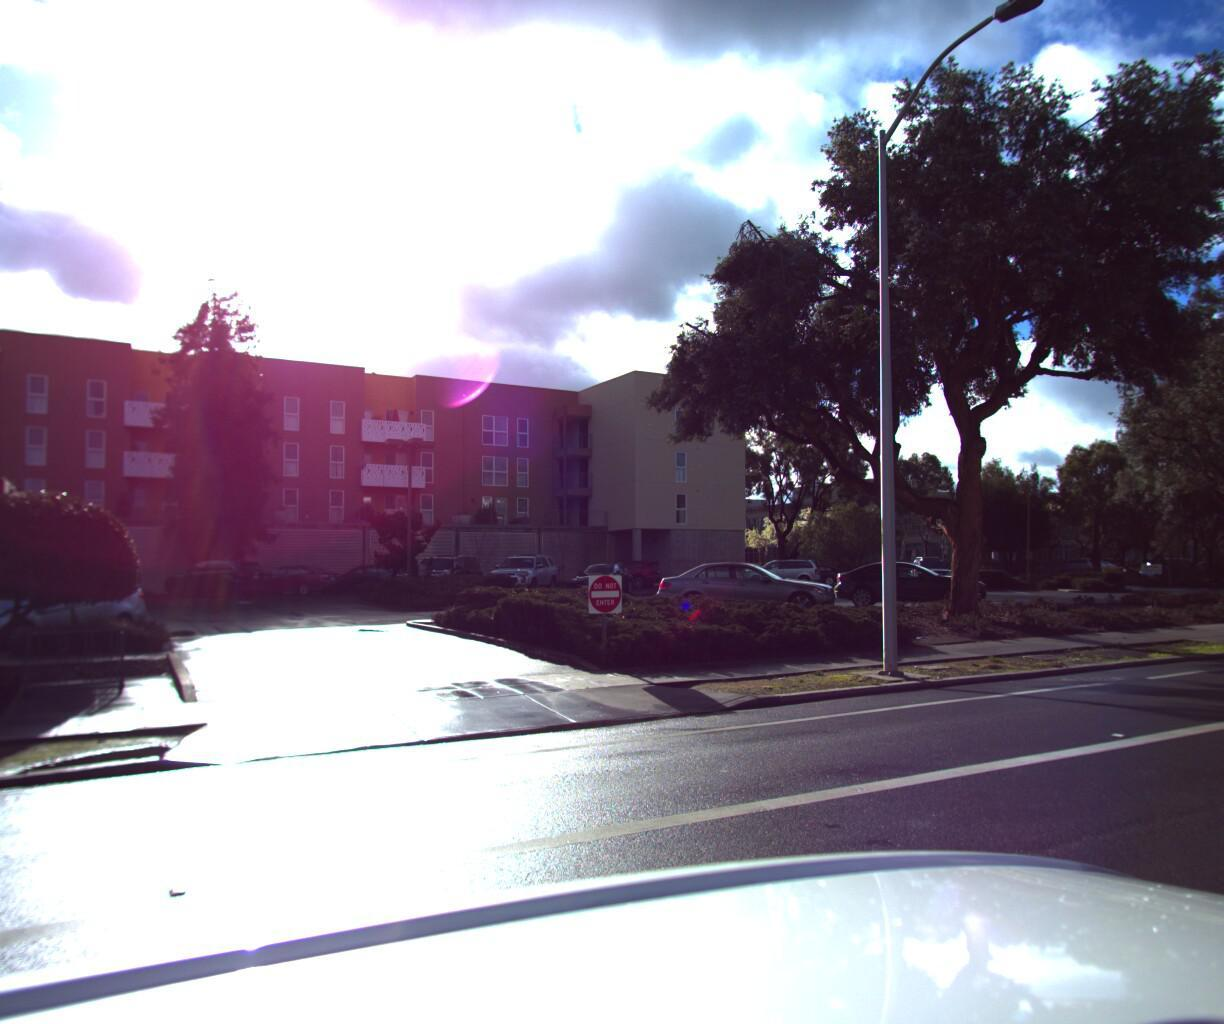car: (0, 567, 170, 659), (649, 552, 840, 616), (829, 554, 988, 606)
